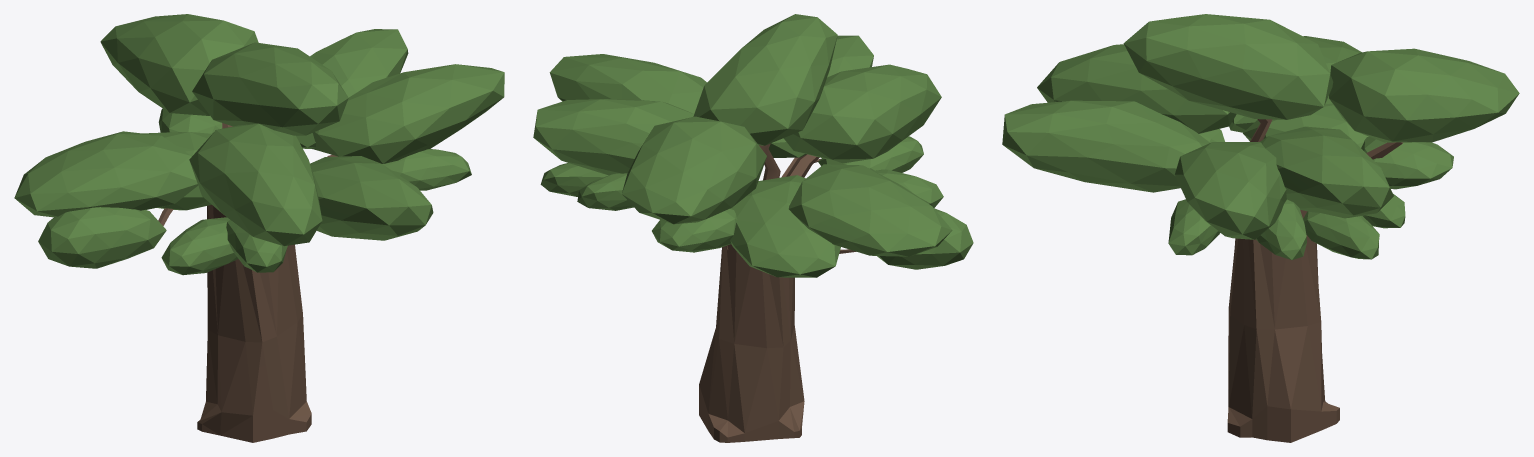
The model's file is tree9a.glb.
3 renders of one model, left to right at view 1: azimuth 30°, elevation 25°; view 2: azimuth 150°, elevation 25°; view 3: azimuth 270°, elevation 25°, orthographic. The views are drawn at different scales.
Visible parts, largest first — view 1: tree_00102; view 2: tree_00102; view 3: tree_00102.
Part boxes in pixels (left/top/right/bottom): tree_00102: left=14, top=14, right=504, bottom=442; tree_00102: left=533, top=14, right=973, bottom=442; tree_00102: left=1002, top=14, right=1519, bottom=442.
Bounding box in the file's own units: 2.99 × 2.49 × 2.93.
